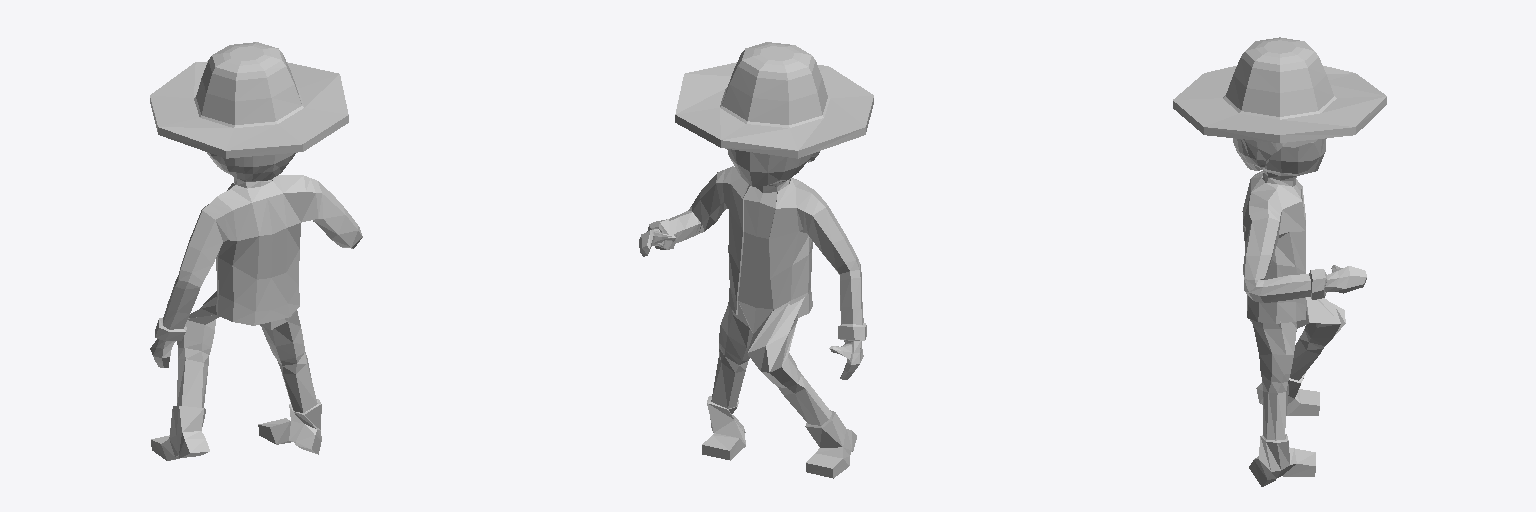
Rendered from run.obj.
The picture shows the model from 3 angles: view 1: azimuth 30°, elevation 25°; view 2: azimuth 150°, elevation 25°; view 3: azimuth 270°, elevation 25°; orthographic projection.
Parts seen in each view (by area): view 1: Cube; view 2: Cube; view 3: Cube.
Part boxes in pixels (bbox=[...]): Cube: bbox=[150, 42, 362, 460]; Cube: bbox=[639, 42, 873, 478]; Cube: bbox=[1173, 37, 1386, 486].
Bounding box in the file's own units: 7.78 × 15.38 × 7.29.